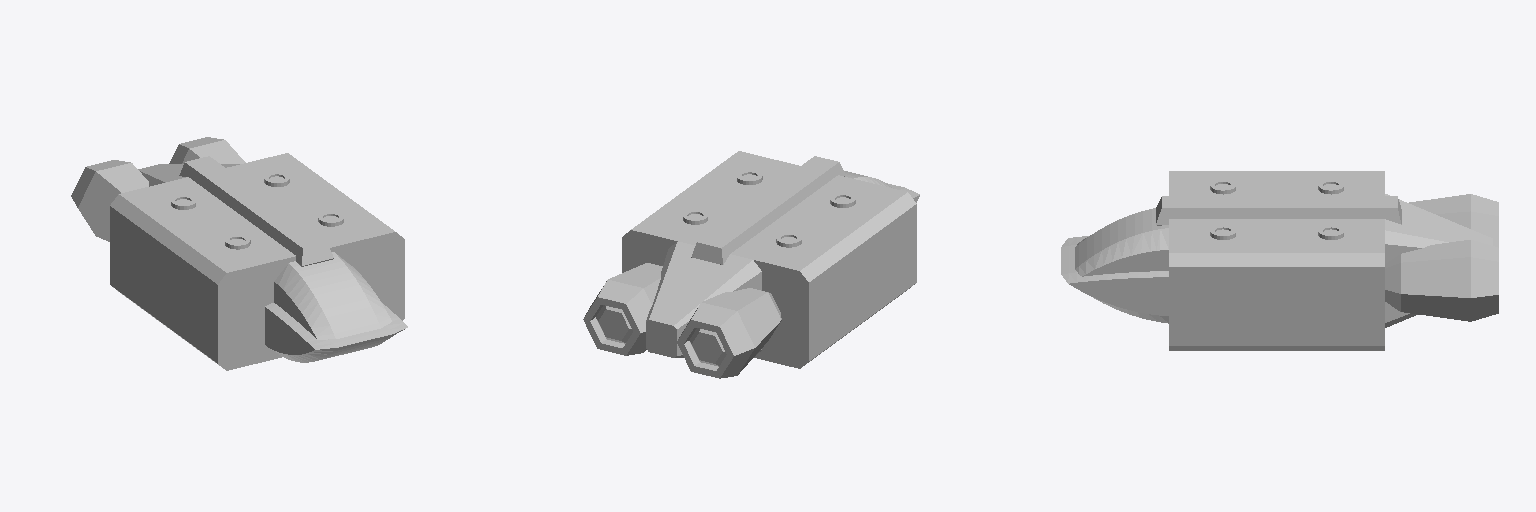
File: BGFreighterZ2X2.obj
3 renders of one model, left to right at view 1: azimuth 30°, elevation 25°; view 2: azimuth 150°, elevation 25°; view 3: azimuth 270°, elevation 25°, orthographic.
Bounding box in the file's own units: 2 × 1.1 × 4.05.